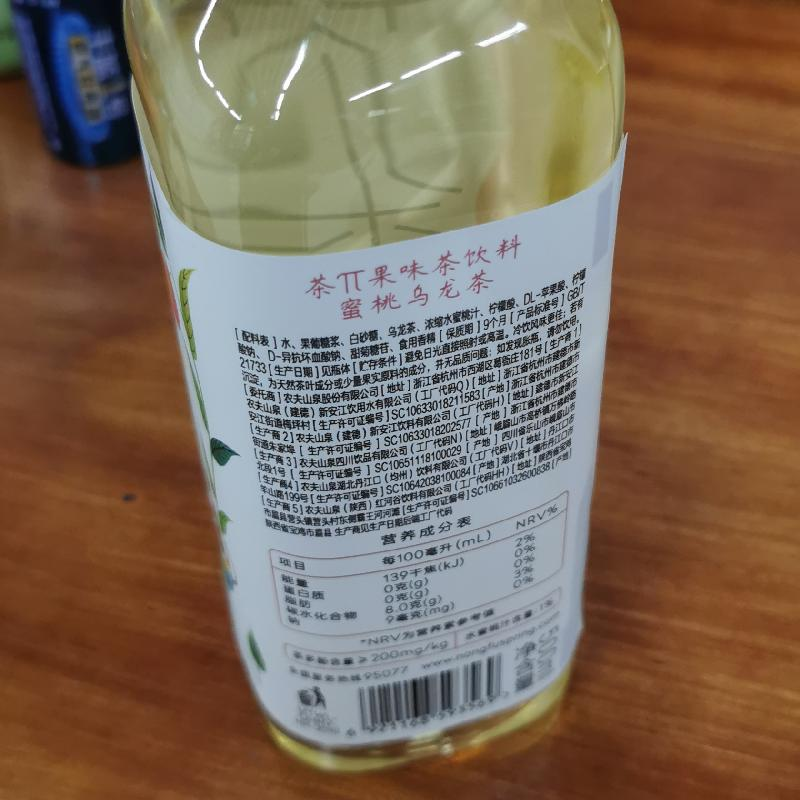bottles: (116, 0, 637, 773)
